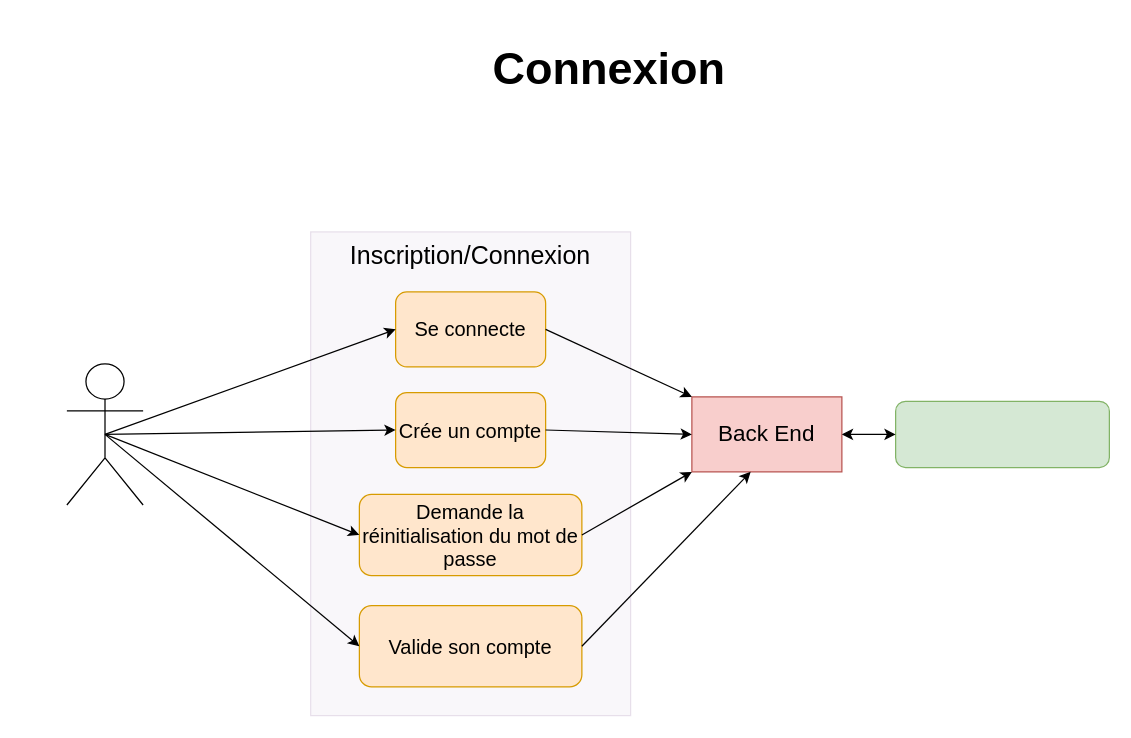
The diagram is 1131 pixels wide and 738 high, and some of its shapes have lost their labels. The shapes that lost their labels are listed below. From the top down, each one's centre as x and y in pixels, then its label:
At point 104,433: "Utilisateur (élève & bénévole)".
At point 1001,434: "Base de donneés".
